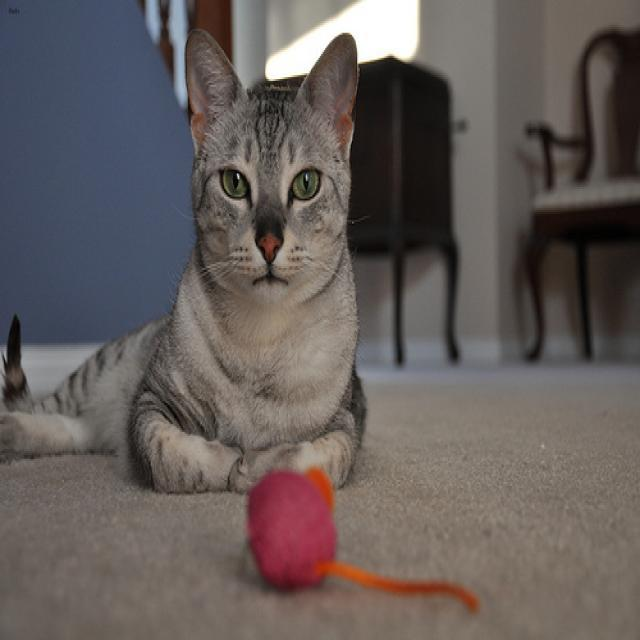Egyptian_Mau: (185, 24, 359, 317)
